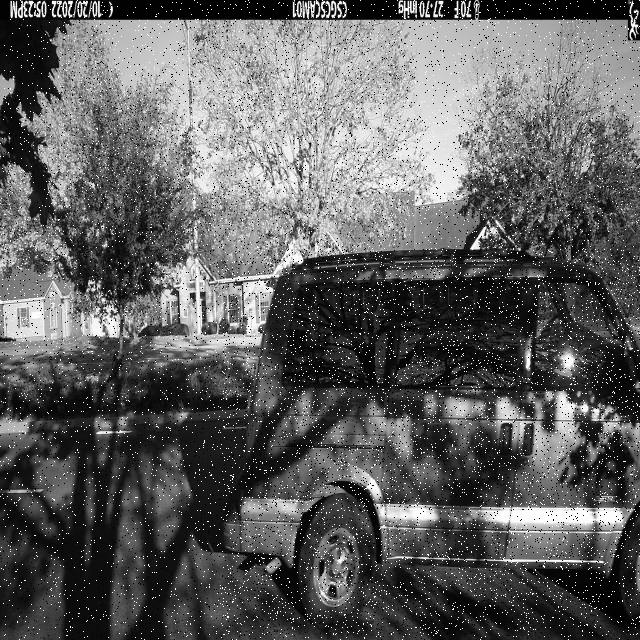Van: (222, 249, 640, 636)
